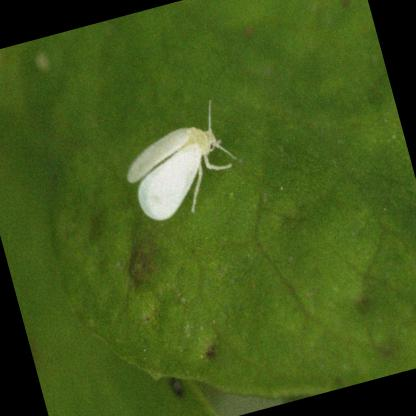whitefly: (128, 103, 233, 219)
